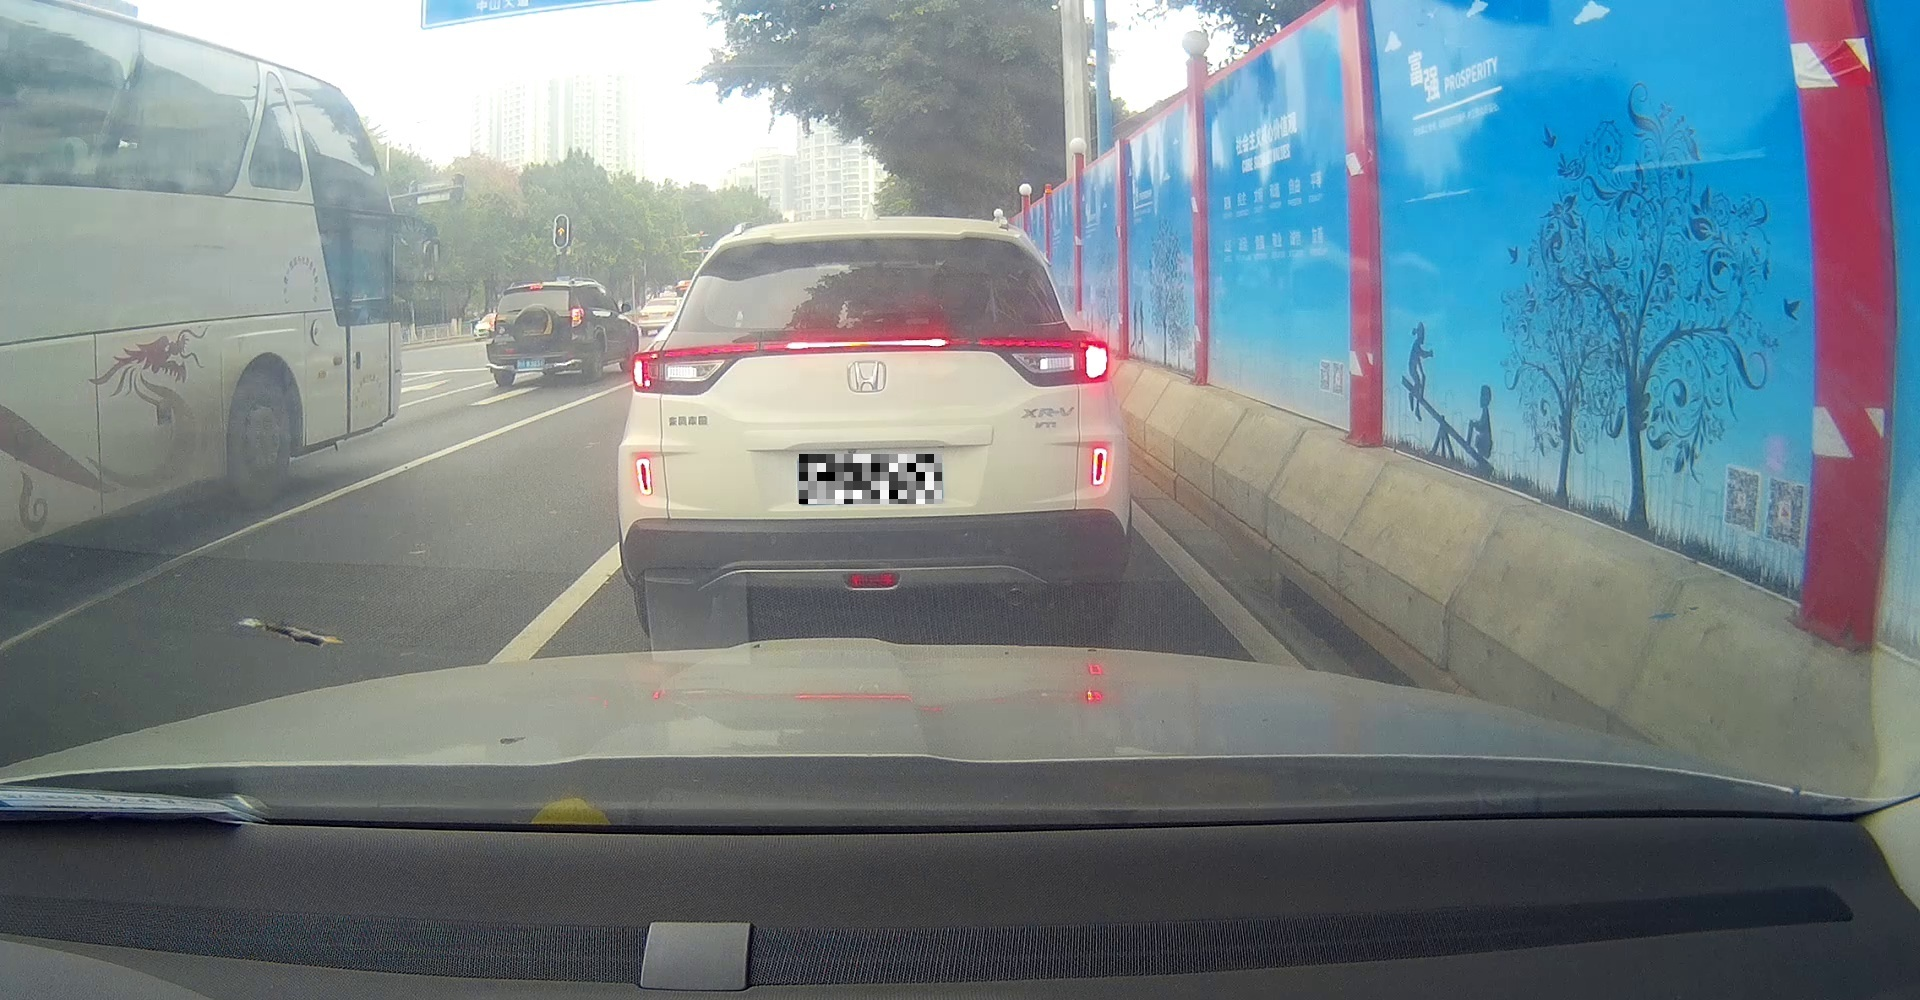L_light: (631, 343, 756, 393), (488, 312, 498, 332)
R_light: (977, 338, 1109, 388), (570, 308, 584, 327)
T_light: (785, 338, 949, 352), (528, 284, 543, 291)
day-brake: (618, 216, 1131, 640), (485, 280, 585, 387)
plate_1: (799, 454, 942, 504)
